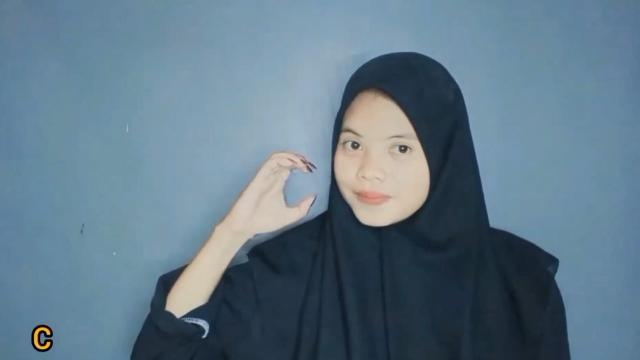C: (227, 152, 317, 236)
